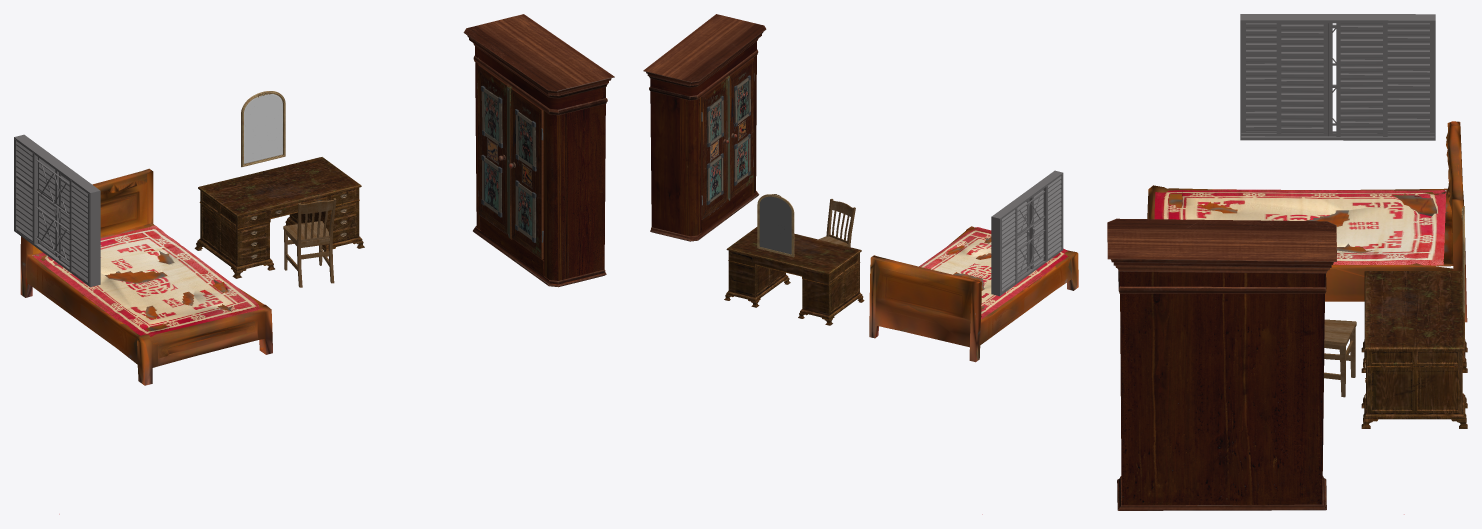
The model's file is bedroomasset.glb.
3 views of the same model, side by side, from view 1: azimuth 30°, elevation 25°; view 2: azimuth 150°, elevation 25°; view 3: azimuth 270°, elevation 25° (orthographic). The views are drawn at different scales.
Parts seen in each view (by area): view 1: Closet_LP, vietnamese bed_BED_0, defaultMaterial.005, Plane.001_vn-11134207-7r98o-lsxhwnhid51gf0_0, Folha Interna001_Material #23_0.001, ornate_mirror, chair_chair_0.002, Quadro001_Material #23_0.001, Folha Externa Esquerda001_Material #23_0.001, Folha Externa Direita001_Material #23_0.001; view 2: Closet_LP, vietnamese bed_BED_0, defaultMaterial.005, Plane.001_vn-11134207-7r98o-lsxhwnhid51gf0_0, Folha Interna001_Material #23_0.001, ornate_mirror, Quadro001_Material #23_0.001, Folha Externa Direita001_Material #23_0.001, chair_chair_0.002, Folha Externa Esquerda001_Material #23_0.001; view 3: Closet_LP, defaultMaterial.005, Plane.001_vn-11134207-7r98o-lsxhwnhid51gf0_0, Folha Interna001_Material #23_0.001, vietnamese bed_BED_0, Folha Externa Direita001_Material #23_0.001, Folha Externa Esquerda001_Material #23_0.001, Quadro001_Material #23_0.001, chair_chair_0.002.
Part boxes in pixels (x1=…): Closet_LP: x1=463, y1=14, x2=614, y2=287; vietnamese bed_BED_0: x1=20, y1=168, x2=272, y2=385; defaultMaterial.005: x1=194, y1=157, x2=364, y2=278; Plane.001_vn-11134207-7r98o-lsxhwnhid51gf0_0: x1=32, y1=225, x2=264, y2=514; Folha Interna001_Material #23_0.001: x1=14, y1=139, x2=89, y2=285; ornate_mirror: x1=241, y1=91, x2=285, y2=167; chair_chair_0.002: x1=283, y1=198, x2=336, y2=287; Quadro001_Material #23_0.001: x1=14, y1=134, x2=100, y2=286; Folha Externa Esquerda001_Material #23_0.001: x1=38, y1=157, x2=58, y2=257; Folha Externa Direita001_Material #23_0.001: x1=58, y1=172, x2=69, y2=266; Closet_LP: x1=643, y1=14, x2=766, y2=241; vietnamese bed_BED_0: x1=869, y1=226, x2=1078, y2=362; defaultMaterial.005: x1=724, y1=227, x2=864, y2=325; Plane.001_vn-11134207-7r98o-lsxhwnhid51gf0_0: x1=919, y1=227, x2=1067, y2=514; Folha Interna001_Material #23_0.001: x1=1000, y1=174, x2=1062, y2=294; ornate_mirror: x1=757, y1=194, x2=794, y2=257; Quadro001_Material #23_0.001: x1=991, y1=170, x2=1063, y2=296; Folha Externa Direita001_Material #23_0.001: x1=1028, y1=189, x2=1043, y2=268; chair_chair_0.002: x1=818, y1=199, x2=855, y2=247; Folha Externa Esquerda001_Material #23_0.001: x1=1017, y1=200, x2=1029, y2=278; Closet_LP: x1=1107, y1=218, x2=1336, y2=510; defaultMaterial.005: x1=1361, y1=271, x2=1467, y2=428; Plane.001_vn-11134207-7r98o-lsxhwnhid51gf0_0: x1=1154, y1=189, x2=1446, y2=514; Folha Interna001_Material #23_0.001: x1=1241, y1=23, x2=1434, y2=133; vietnamese bed_BED_0: x1=1147, y1=121, x2=1467, y2=322; Folha Externa Direita001_Material #23_0.001: x1=1276, y1=23, x2=1332, y2=136; Folha Externa Esquerda001_Material #23_0.001: x1=1336, y1=23, x2=1387, y2=136; Quadro001_Material #23_0.001: x1=1240, y1=14, x2=1435, y2=140; chair_chair_0.002: x1=1324, y1=319, x2=1356, y2=397.
Bounding box in the file's own units: 5.22 × 4.37 × 2.7.
7 materials, 7 textured.
